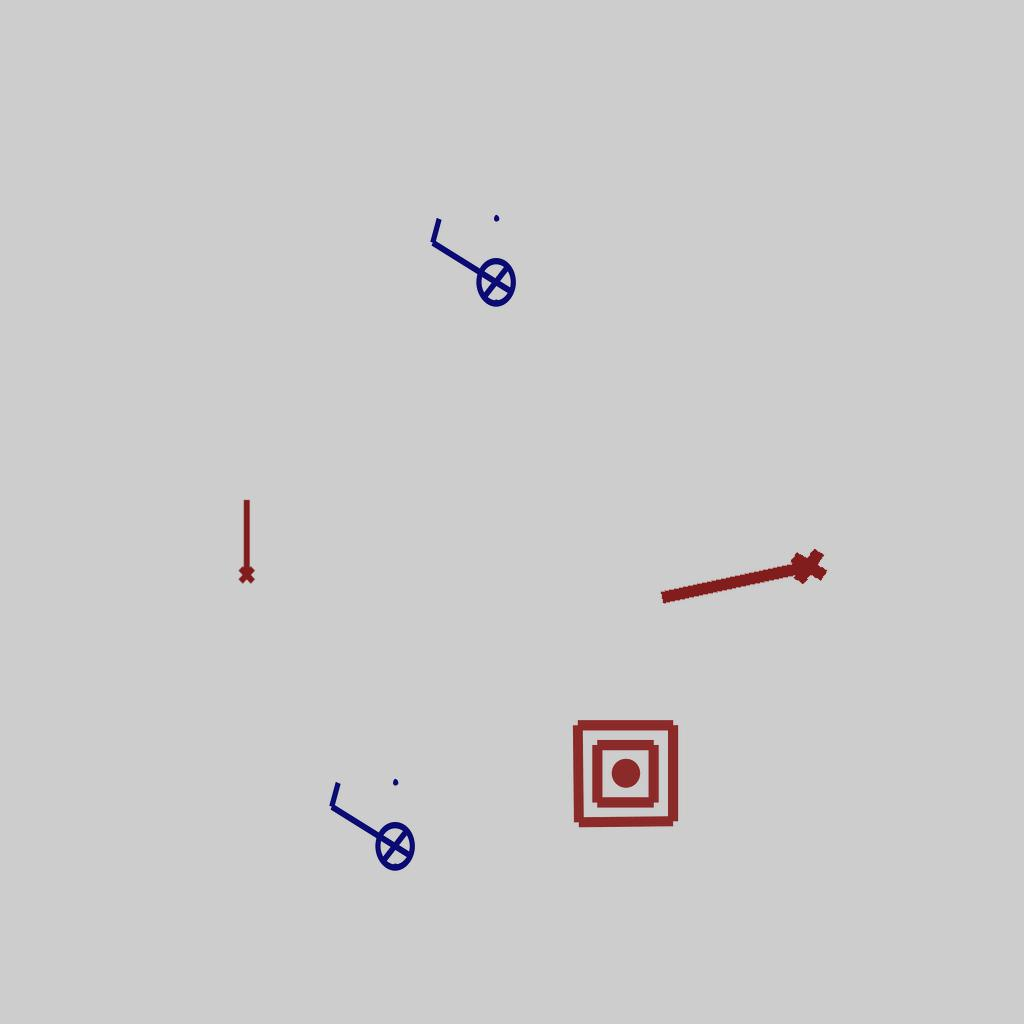ASR_Ansaugoeffnung: (652, 542, 834, 624), (234, 497, 257, 585)
Ausschalter_beleuchtet: (321, 773, 417, 885), (422, 209, 518, 321)
NAM-Nichtautomatischer_Melder: (569, 717, 682, 830)
